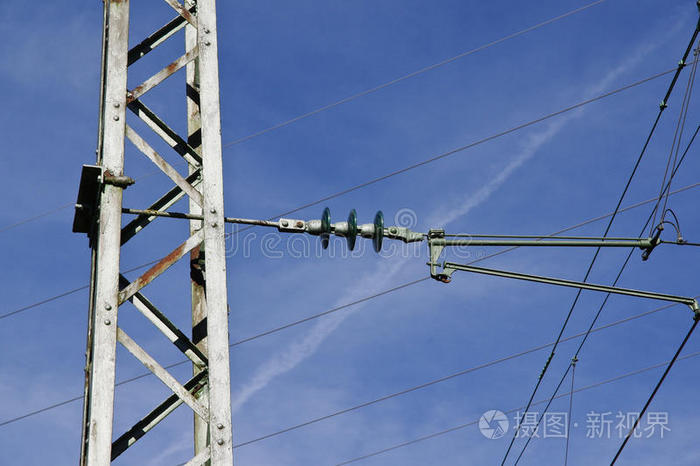insulator: (319, 206, 389, 252)
